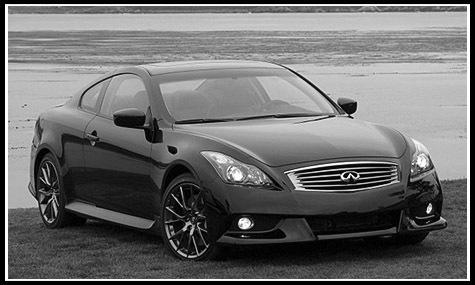car: (29, 60, 446, 266)
